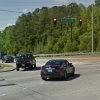Car: (39, 54, 79, 86)
